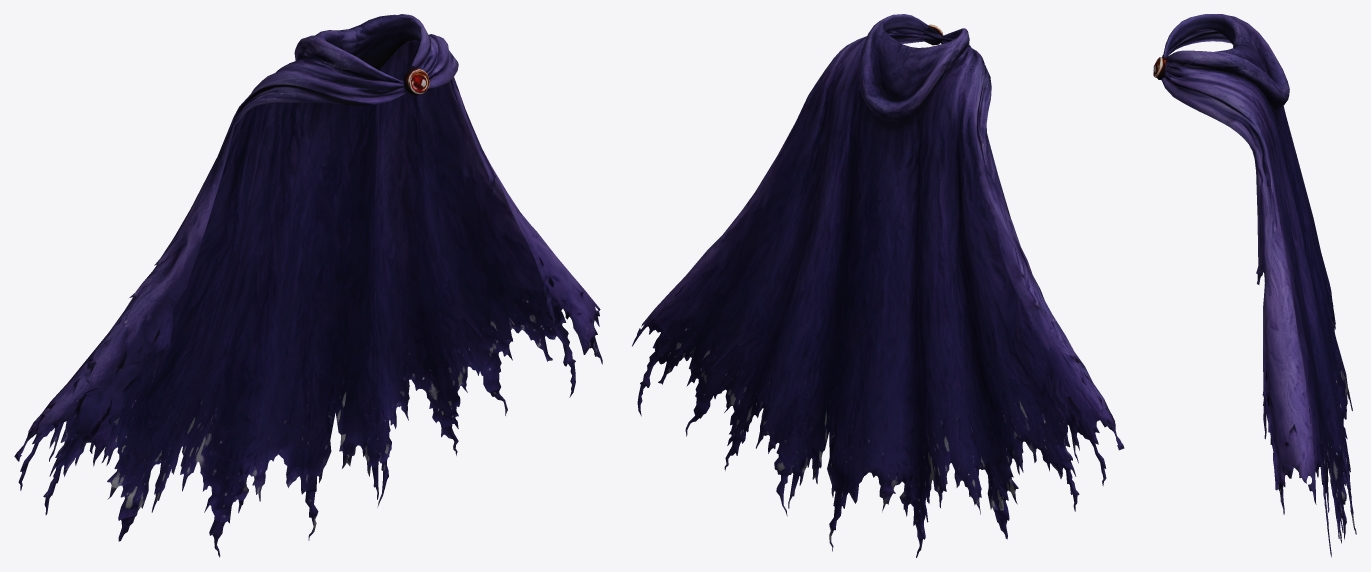
Rendered from orta_seviye_pelerin.fbx.
3 views of the same model, side by side, from view 1: azimuth 30°, elevation 25°; view 2: azimuth 150°, elevation 25°; view 3: azimuth 270°, elevation 25° (orthographic). The views are drawn at different scales.
Parts seen in each view (by area): view 1: tripo_node_9924e071; view 2: tripo_node_9924e071; view 3: tripo_node_9924e071.
Part boxes in pixels (left/top/right/bottom): tripo_node_9924e071: left=14, top=14, right=602, bottom=557; tripo_node_9924e071: left=632, top=14, right=1124, bottom=557; tripo_node_9924e071: left=1153, top=14, right=1356, bottom=557.
Size of the model in its own units: 1.07 by 1 by 0.3747.
1 material, 1 textured.
